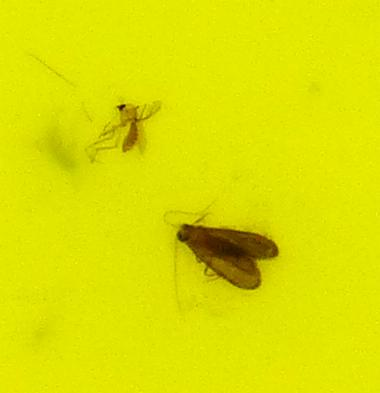Nematocera: (100, 100, 159, 155)
Trichoptera: (171, 214, 280, 293)
